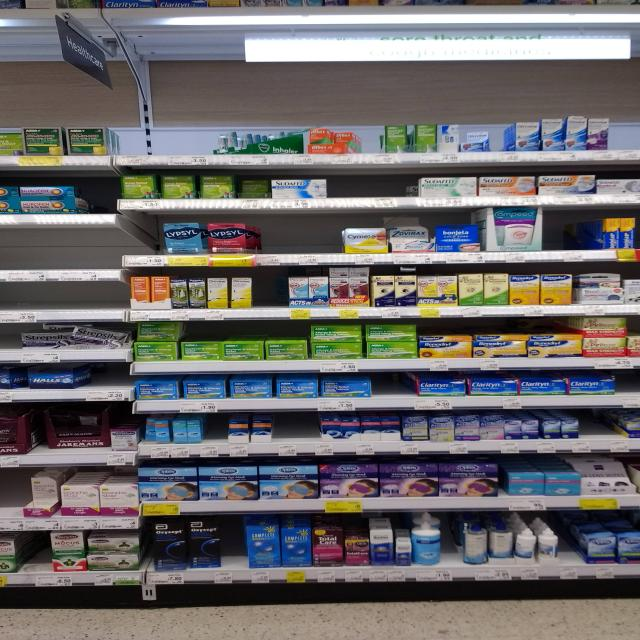empty: (1, 228, 132, 274), (112, 116, 210, 159), (1, 280, 127, 310), (251, 215, 341, 251), (329, 177, 420, 208), (438, 508, 473, 571), (273, 412, 324, 447), (250, 269, 294, 309), (18, 534, 59, 575), (364, 373, 424, 400), (542, 215, 587, 251), (84, 361, 137, 390), (578, 407, 622, 440), (553, 515, 582, 560), (222, 522, 249, 568), (1, 472, 29, 515), (203, 419, 230, 449)
